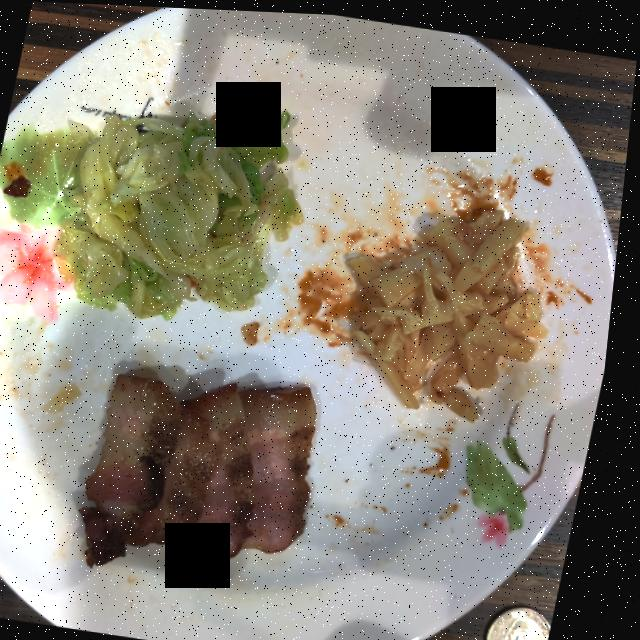cabbage: (60, 90, 306, 316)
coin: (498, 601, 563, 640)
red grilled pork: (92, 373, 324, 564)
